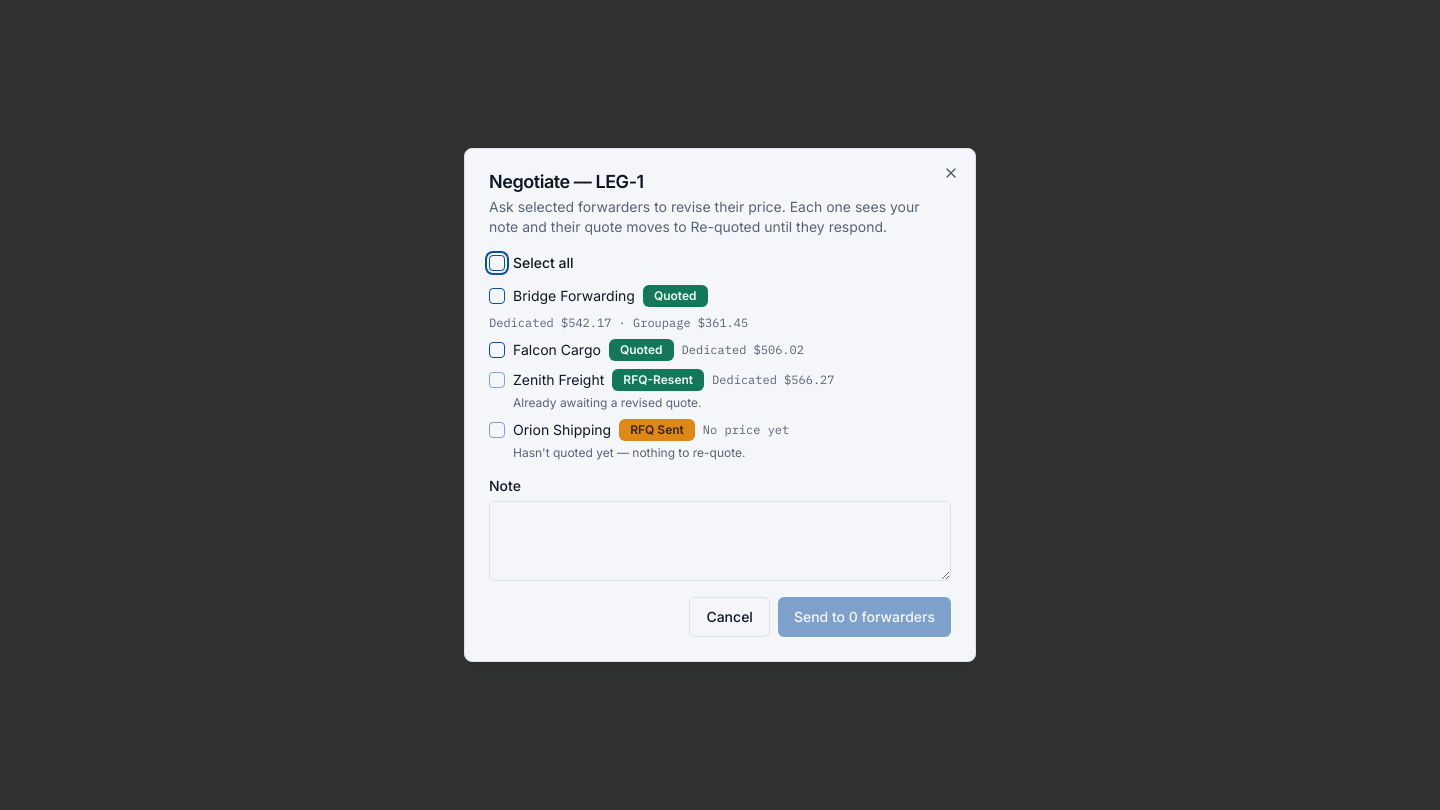
Test case: NegotiateDialog › reports partial success per forwarder and stays open
Click the checkbox named "select all".
click(497, 263)  # box [489, 255, 505, 271]
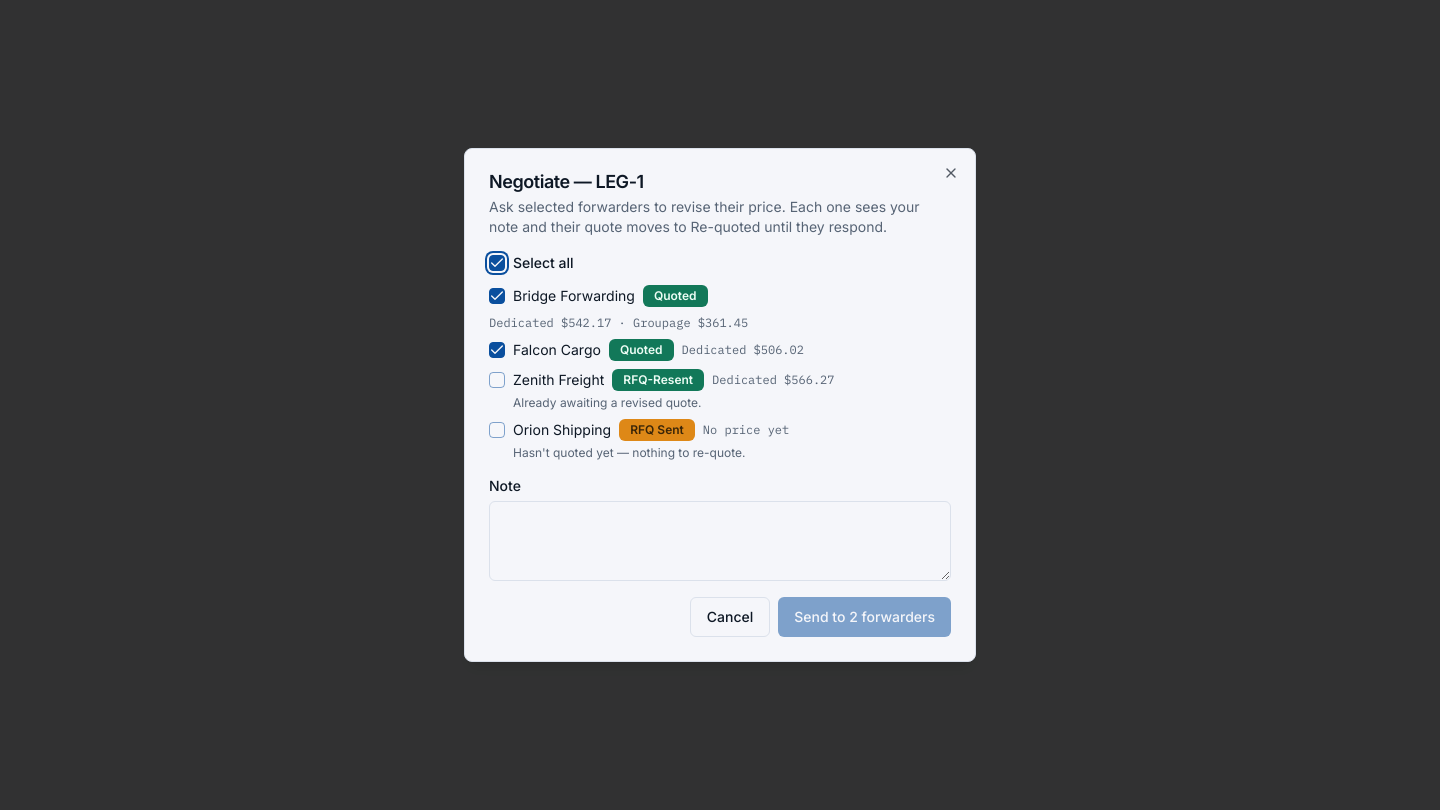
Type "please revise" into the text box labelled "Note".
click(720, 541); type("please revise")  # box [489, 501, 951, 581]
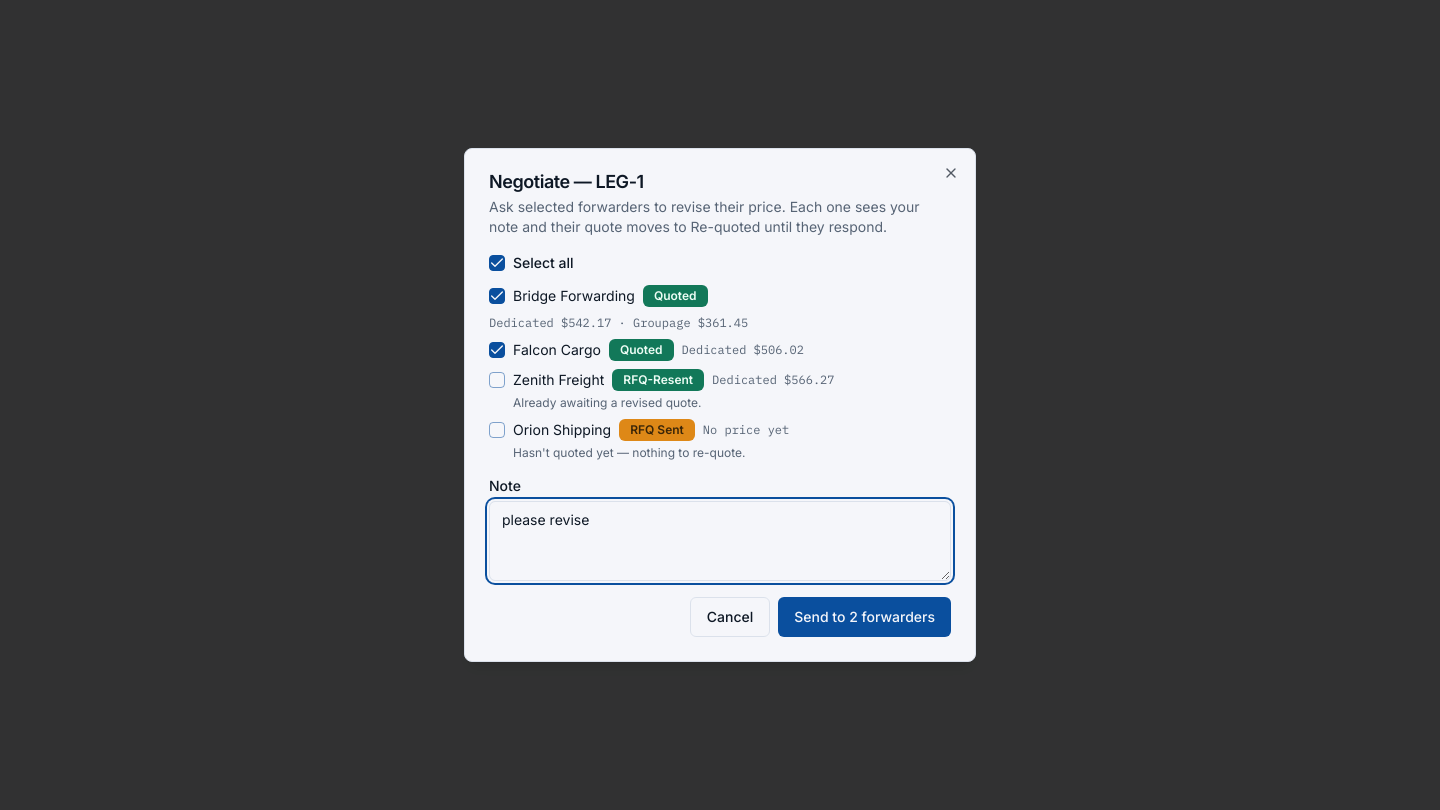
Click the button "Send to 2 forwarders".
click(865, 617)  # box [778, 597, 951, 637]
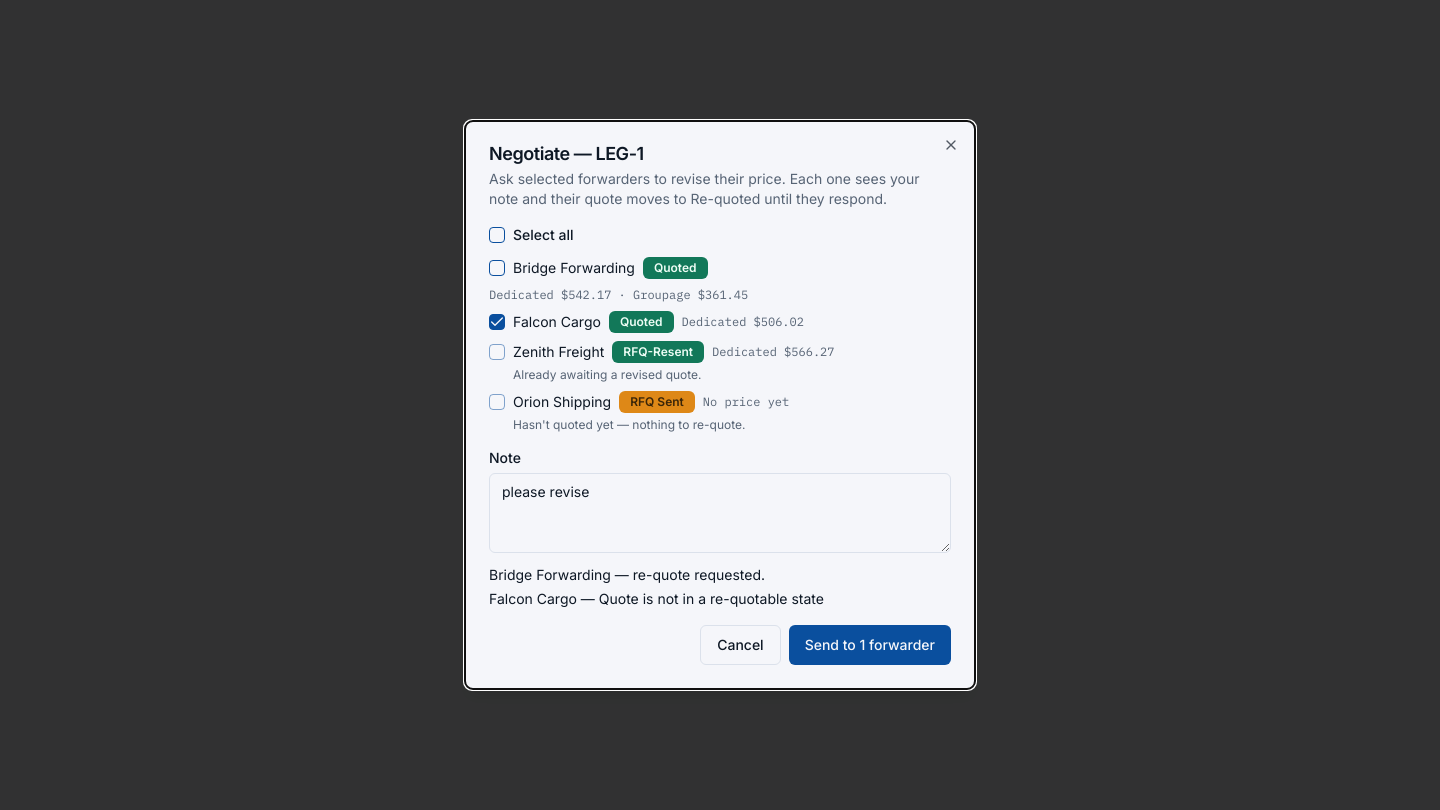
Result: the list item "Bridge Forwarding — re-quote requested." is shown at [489, 566, 765, 583]
Result: the text "Falcon Cargo — Quote is not in a re-quotable state" is shown at [489, 590, 824, 607]
Result: the checkbox named "bridge" is not checked at [489, 260, 505, 276]
